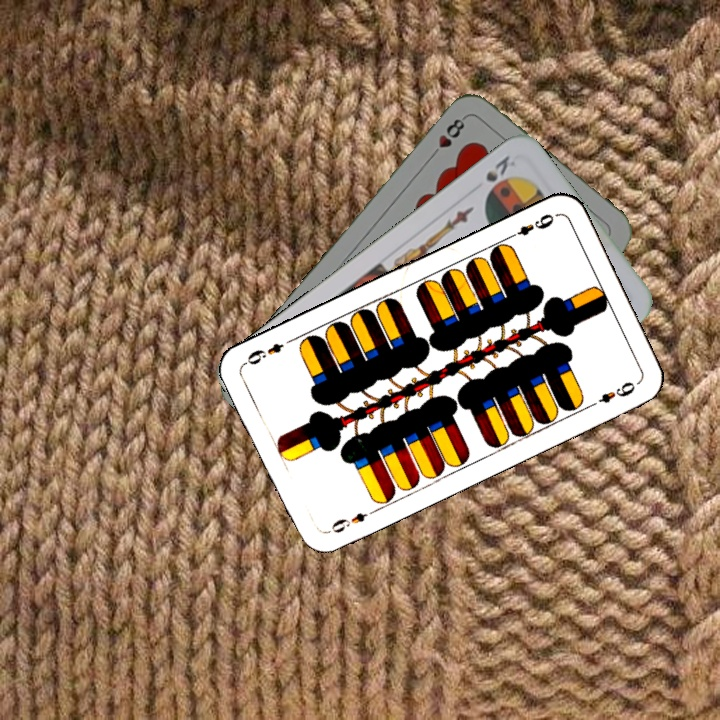E9: (323, 505, 379, 537), (503, 209, 557, 242)
H8: (426, 112, 469, 161)
SK: (481, 151, 518, 185)
